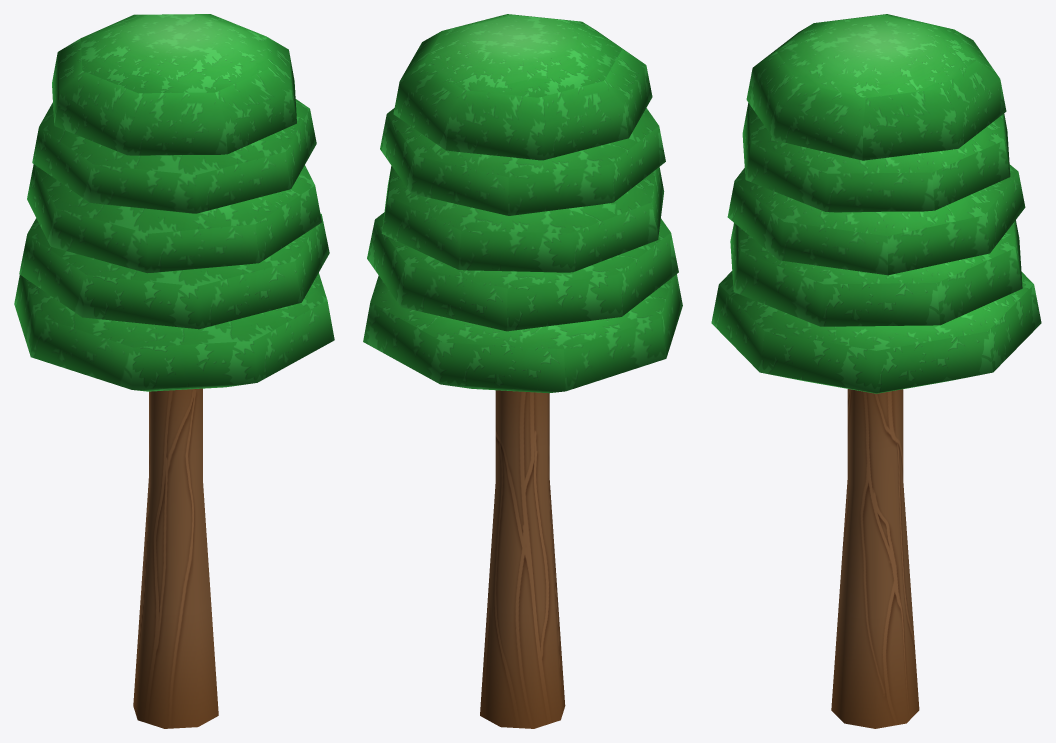
The model's file is french_tree_03.fbx.
3 renders of one model, left to right at view 1: azimuth 30°, elevation 25°; view 2: azimuth 150°, elevation 25°; view 3: azimuth 270°, elevation 25°, orthographic.
Parts seen in each view (by area): view 1: french_trees:polySurface3692; view 2: french_trees:polySurface3692; view 3: french_trees:polySurface3692.
Boxes of the visible parts, x1,y1,x2,y2 form: french_trees:polySurface3692: [14, 14, 334, 728]; french_trees:polySurface3692: [363, 14, 682, 728]; french_trees:polySurface3692: [711, 14, 1041, 728].
Size of the model in its own units: 1.58 by 3.53 by 1.58.
